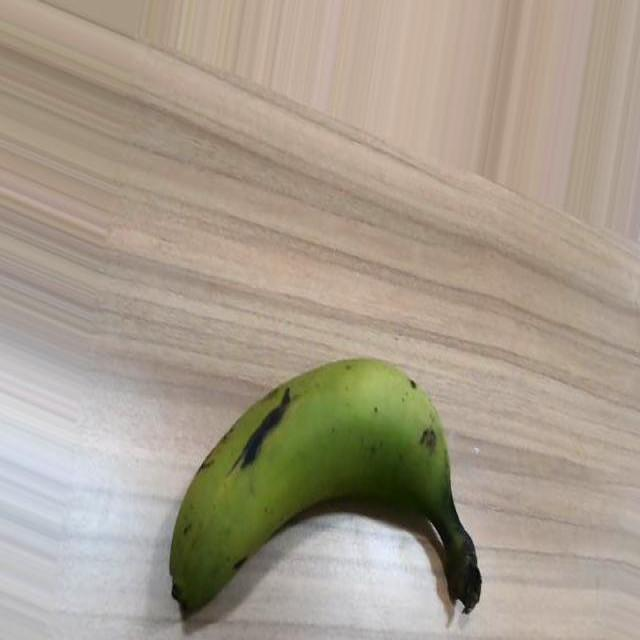Unripe: (170, 356, 484, 615)
